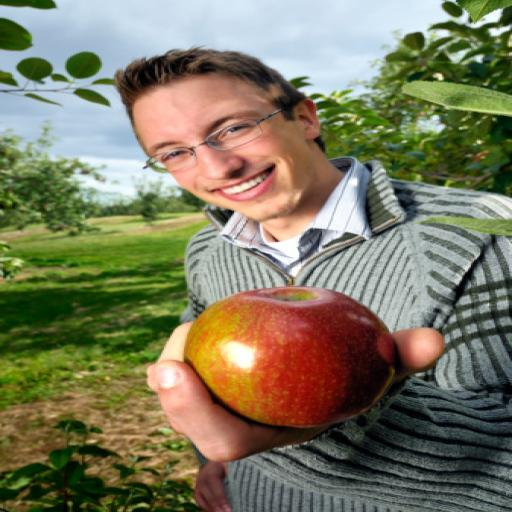apple: (184, 287, 395, 427)
